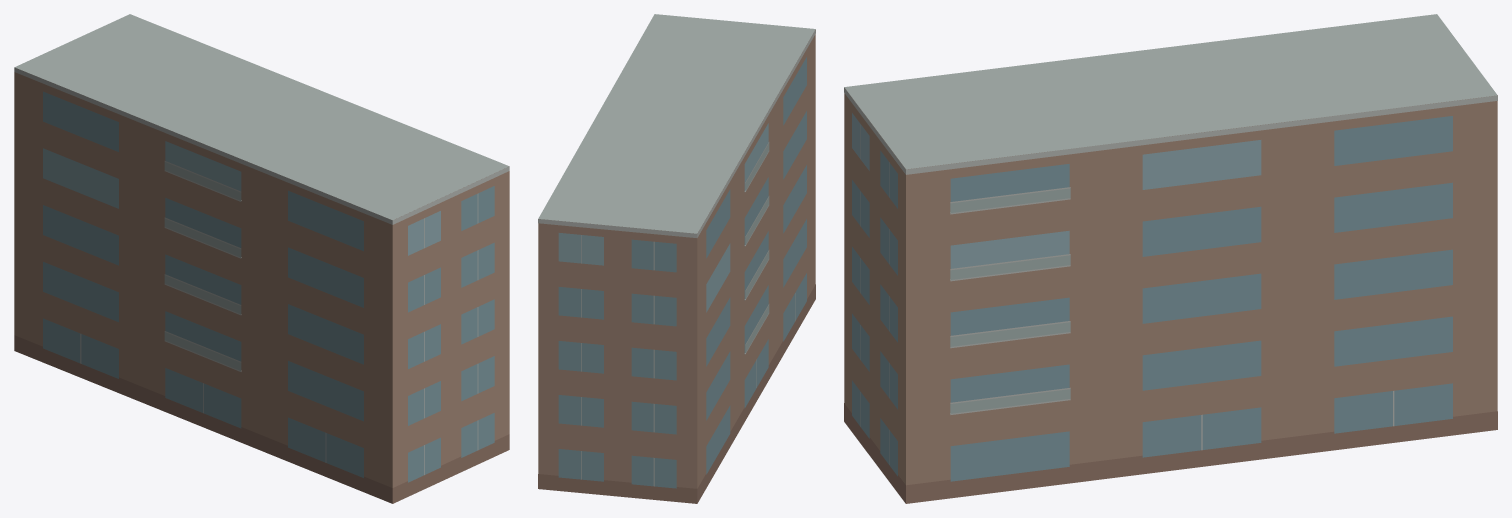
Rendered from survey-upis-32812444.glb.
The picture shows the model from 3 angles, left to right: view 1: azimuth 30°, elevation 25°; view 2: azimuth 150°, elevation 25°; view 3: azimuth 270°, elevation 25°; orthographic projection. The views are drawn at different scales.
Visible parts, largest first — view 1: survey-upis-32812444.tmp; view 2: survey-upis-32812444.tmp; view 3: survey-upis-32812444.tmp.
Boxes of the visible parts, bbox=[...] form: survey-upis-32812444.tmp: bbox=[14, 14, 509, 503]; survey-upis-32812444.tmp: bbox=[538, 14, 815, 503]; survey-upis-32812444.tmp: bbox=[844, 14, 1497, 503].
Bounding box in the file's own units: 14.86 × 14.9 × 26.4.
